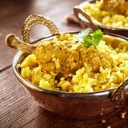briyani: (5, 29, 128, 91)
